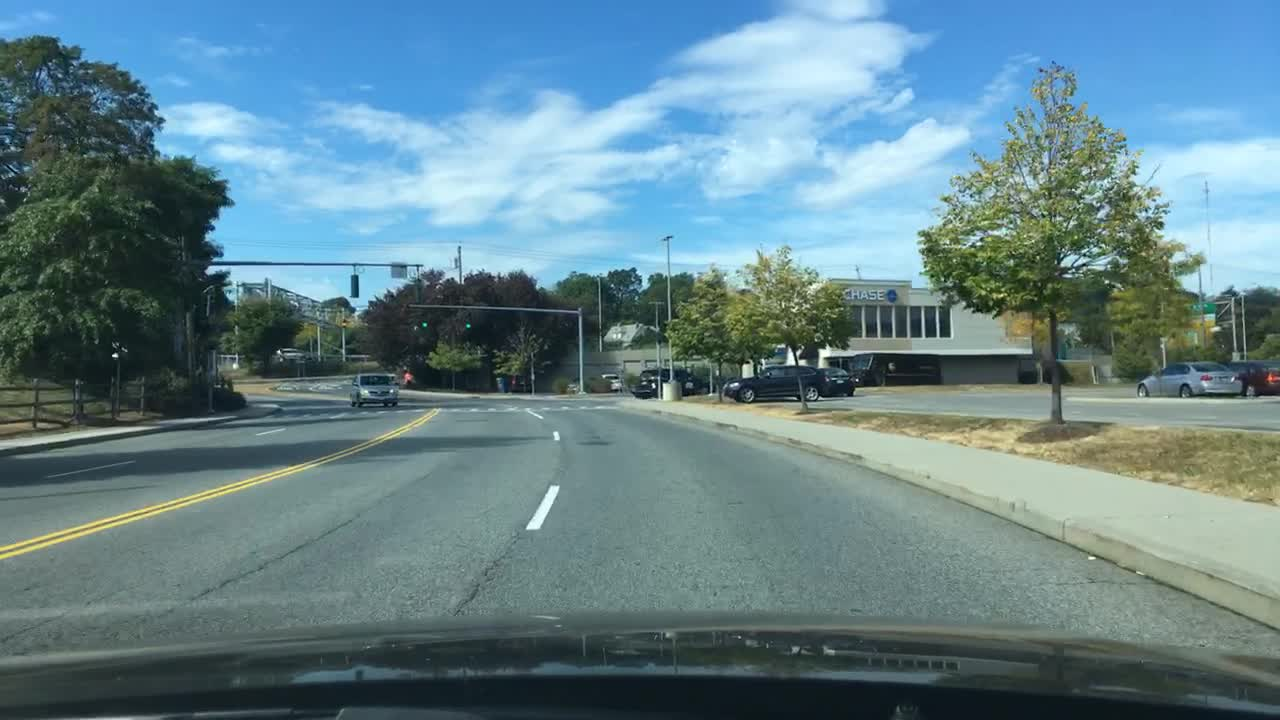car: (1134, 359, 1243, 400), (720, 363, 823, 401), (631, 364, 715, 396), (1221, 358, 1279, 398), (347, 371, 398, 410), (813, 366, 855, 395), (600, 371, 624, 393)
person: (400, 368, 415, 390)
traffic light: (411, 280, 425, 302), (347, 273, 359, 297), (418, 309, 432, 329), (462, 314, 474, 329)
traffic sign: (1182, 301, 1218, 333), (388, 261, 408, 278)
